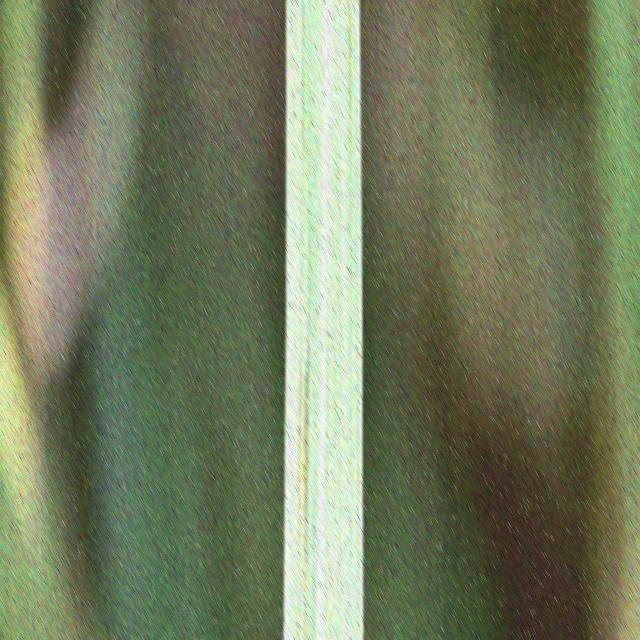BLS: (302, 318, 310, 640), (296, 251, 302, 640), (348, 0, 351, 305), (294, 0, 296, 121)
